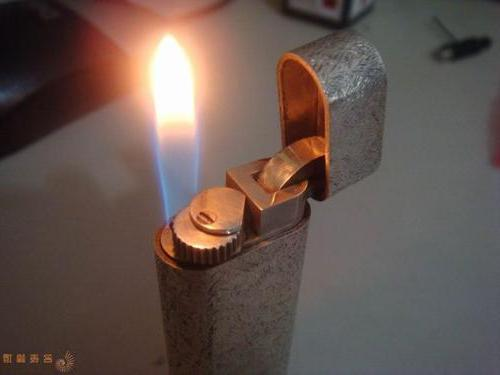fire: (136, 20, 213, 228)
